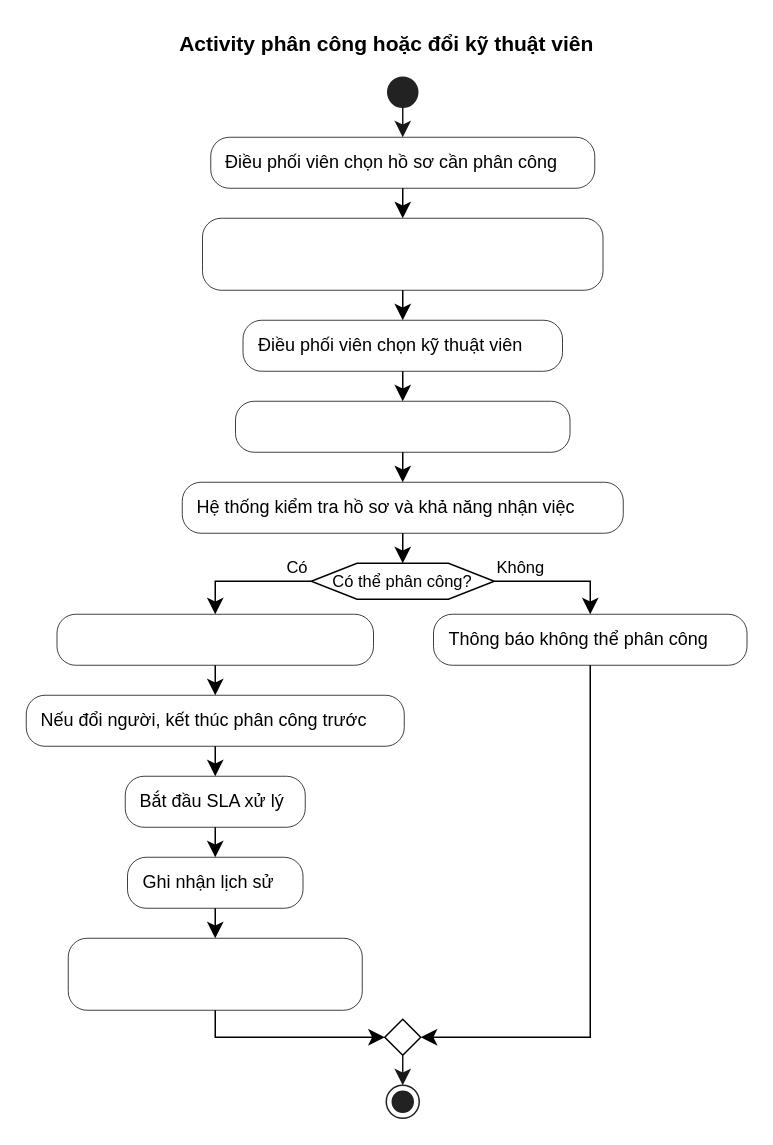
The diagram is 773 pixels wide and 1145 high, and some of its shapes have lost their labels. The shapes that lost their labels are listed below. From the top down, each one's box as (x1, y1, x2, y2) in pixels, then its label:
(201, 217, 603, 290): Hệ thống hiển thị danh sách kỹ thuật viên và khối lượng công việc
(234, 400, 570, 452): Điều phối viên xác nhận phân công
(56, 613, 373, 665): Tạo phân công cho kỹ thuật viên
(67, 937, 362, 1010): Thông báo đã phân công và chờ kỹ thuật viên tiếp nhận
